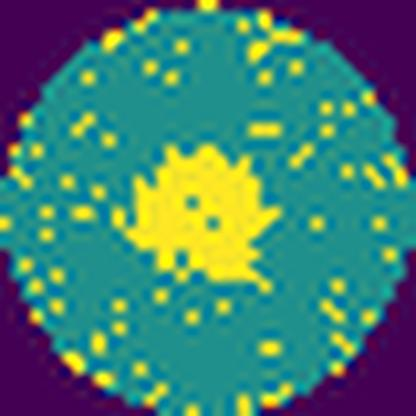Center: (116, 145, 283, 295)
